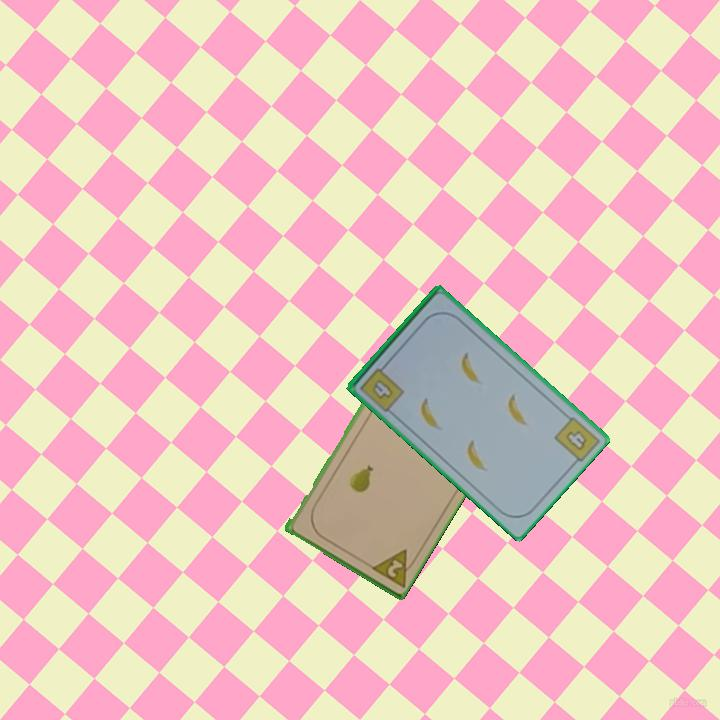2p: (366, 545, 420, 589)
4b: (356, 359, 407, 412), (562, 427, 590, 454)
